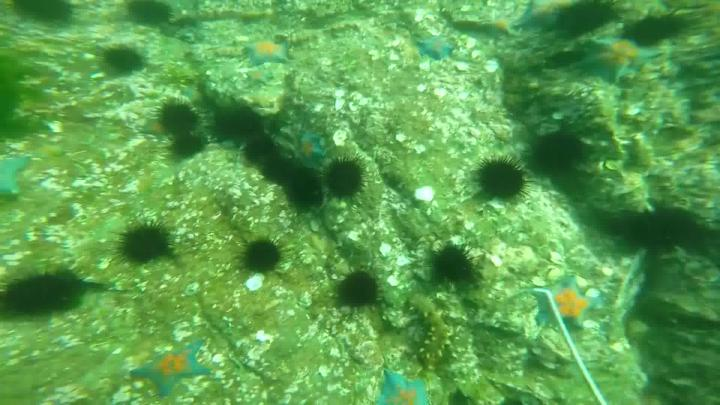echinus: (3, 269, 96, 317), (621, 8, 687, 46), (110, 222, 171, 263), (474, 155, 530, 198), (326, 155, 371, 198), (561, 1, 615, 35), (432, 243, 476, 284), (539, 134, 586, 172), (335, 272, 379, 311), (214, 106, 263, 140), (154, 99, 199, 134), (243, 239, 284, 274), (102, 42, 144, 75), (288, 168, 322, 203), (125, 3, 173, 27), (168, 135, 212, 155), (269, 158, 301, 184), (249, 133, 278, 159)
holothurian: (412, 296, 448, 367)
scallop: (243, 274, 269, 292), (415, 186, 436, 201), (333, 131, 349, 147), (336, 92, 347, 112), (485, 61, 500, 73), (455, 63, 470, 74), (585, 290, 602, 299), (436, 88, 448, 98)
starfish: (578, 32, 669, 83), (136, 339, 208, 398), (537, 275, 592, 331), (382, 371, 428, 405), (10, 1, 72, 23), (516, 1, 559, 32), (243, 40, 291, 67), (2, 154, 28, 197), (294, 134, 326, 165), (419, 34, 453, 60)
